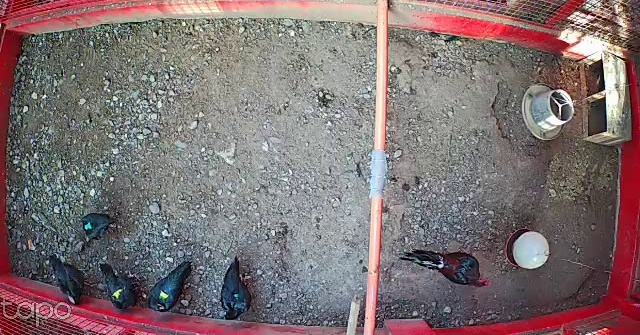Chicken: (94, 261, 145, 313), (147, 260, 193, 313), (220, 259, 258, 321), (47, 252, 89, 307), (80, 207, 117, 249)
Rooster: (398, 243, 492, 289)
Saddle_Color_Yellow: (111, 288, 123, 299)
Saddle_Color_YellowGreen: (158, 291, 169, 302)
